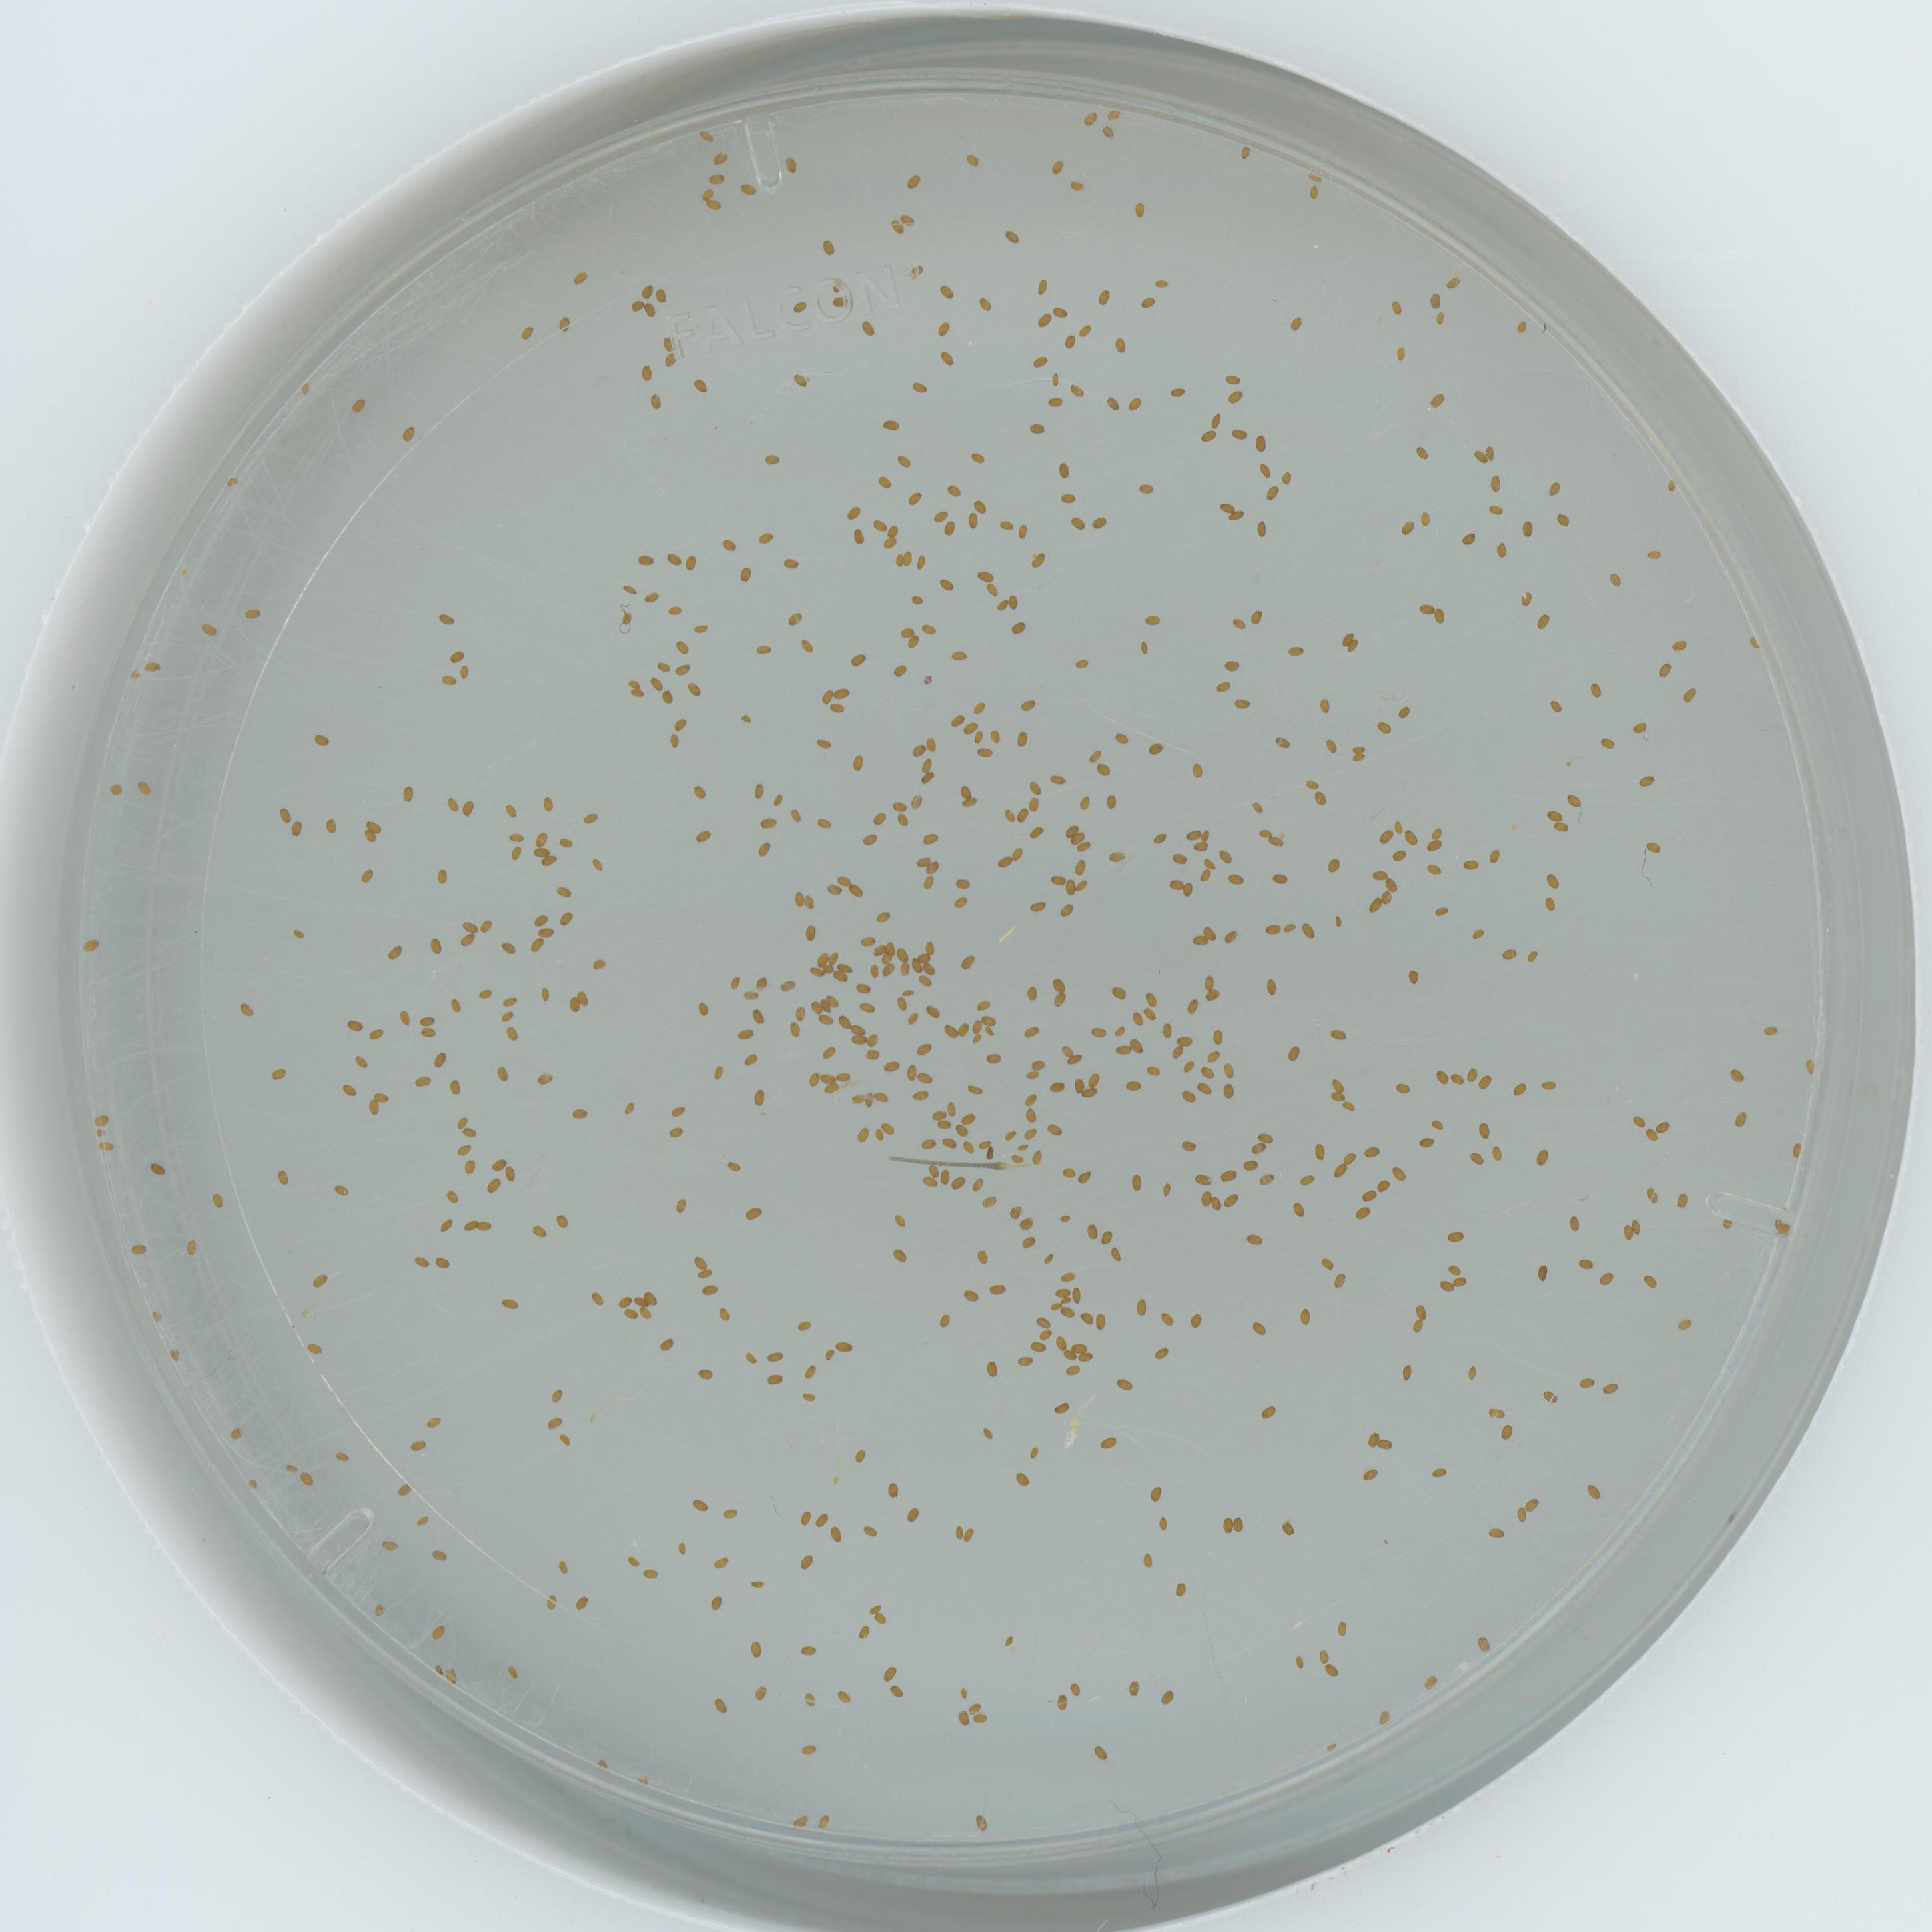seed: (1028, 421, 1049, 441), (1097, 1433, 1120, 1451), (1125, 1171, 1143, 1194), (1309, 1141, 1327, 1162), (1476, 1120, 1491, 1143), (915, 1037, 934, 1054), (747, 1640, 766, 1658), (855, 1125, 872, 1145), (1223, 370, 1242, 387), (957, 954, 977, 971), (1249, 1139, 1269, 1157), (1288, 1200, 1306, 1219), (1497, 1422, 1516, 1440), (1132, 1299, 1150, 1318), (1125, 1679, 1143, 1698), (908, 793, 925, 812), (791, 372, 810, 389), (672, 639, 690, 656), (846, 502, 863, 520), (801, 924, 819, 941), (426, 936, 444, 954), (892, 548, 909, 566), (892, 1246, 909, 1263), (883, 1665, 901, 1683), (345, 1016, 363, 1033), (750, 1007, 768, 1024), (793, 1003, 810, 1021), (828, 1525, 846, 1543), (800, 1552, 817, 1569), (750, 1088, 768, 1106), (536, 1070, 554, 1088), (1251, 433, 1269, 451), (1136, 479, 1154, 497), (1681, 686, 1698, 704), (1263, 485, 1281, 502), (1564, 793, 1582, 810), (1253, 520, 1270, 538), (1299, 922, 1316, 939), (1403, 830, 1421, 847), (1033, 278, 1051, 295), (1169, 849, 1187, 867), (1486, 474, 1504, 492), (1389, 1164, 1407, 1182), (1260, 1405, 1277, 1422), (1251, 1318, 1269, 1336), (1192, 1168, 1210, 1185), (1219, 1060, 1237, 1077), (1123, 1074, 1141, 1092), (1585, 1483, 1603, 1500), (1306, 168, 1323, 186), (832, 294, 849, 311), (908, 262, 925, 280), (901, 212, 918, 230), (106, 782, 124, 800), (759, 816, 778, 832), (274, 807, 294, 823), (957, 782, 973, 801), (849, 1021, 869, 1037), (941, 1021, 957, 1040), (807, 1069, 823, 1088), (1028, 552, 1047, 568), (1219, 1166, 1238, 1182), (1203, 1047, 1223, 1063), (1051, 1399, 1070, 1415), (1532, 1148, 1552, 1164), (1486, 1523, 1506, 1539), (1196, 1063, 1215, 1079), (1539, 1387, 1559, 1403), (200, 621, 219, 637), (242, 607, 262, 623), (711, 1062, 725, 1083), (448, 648, 465, 663), (533, 911, 550, 927), (764, 451, 782, 467), (432, 869, 449, 885), (722, 538, 740, 554), (945, 481, 961, 499), (557, 909, 575, 925), (862, 318, 878, 336), (782, 554, 800, 570), (851, 651, 869, 667), (920, 830, 938, 846), (639, 364, 656, 380), (639, 281, 655, 299), (849, 755, 867, 771), (925, 736, 941, 754), (872, 517, 890, 533), (909, 741, 925, 759), (695, 828, 711, 846), (948, 713, 966, 729), (437, 610, 455, 626), (860, 932, 878, 948), (791, 297, 809, 313), (686, 679, 704, 695), (883, 418, 901, 433), (941, 518, 957, 536), (863, 832, 881, 847), (895, 812, 913, 828), (851, 529, 869, 545), (313, 731, 329, 748), (499, 939, 517, 955), (755, 842, 773, 858), (364, 817, 382, 833), (674, 660, 692, 676), (904, 175, 922, 191), (518, 326, 536, 341), (892, 798, 909, 814), (628, 297, 646, 313), (821, 239, 839, 255), (536, 924, 554, 939), (786, 156, 801, 173), (925, 858, 941, 876), (143, 658, 161, 674), (814, 952, 832, 968), (531, 1223, 548, 1238), (502, 1293, 518, 1311), (858, 998, 876, 1014), (432, 1051, 448, 1069), (573, 1594, 591, 1610), (340, 1083, 357, 1099), (924, 1001, 941, 1017), (798, 1509, 816, 1525), (738, 1024, 755, 1040), (913, 1086, 931, 1102), (814, 1511, 832, 1527), (803, 1362, 821, 1378), (906, 1008, 922, 1026), (713, 1698, 731, 1714), (835, 1336, 853, 1352), (920, 1134, 938, 1150), (694, 1497, 711, 1513), (745, 1203, 763, 1219), (883, 1058, 901, 1074), (485, 1177, 502, 1192), (708, 1594, 725, 1610), (855, 980, 872, 996), (455, 1141, 472, 1157), (695, 1000, 711, 1017), (412, 1253, 430, 1269), (460, 1157, 478, 1173), (414, 1072, 432, 1088), (433, 1253, 451, 1269), (269, 1062, 287, 1077), (672, 1196, 690, 1212), (669, 1102, 686, 1118), (658, 1336, 676, 1352), (692, 1254, 709, 1270), (796, 1316, 814, 1332), (941, 1132, 957, 1150), (856, 1624, 874, 1640), (430, 1624, 448, 1640), (1028, 897, 1046, 913), (1008, 619, 1026, 635), (1391, 849, 1408, 865), (1371, 867, 1389, 883), (1230, 425, 1247, 441), (1286, 642, 1304, 658), (1518, 520, 1536, 536), (1426, 292, 1444, 308), (1545, 874, 1562, 890), (1656, 662, 1674, 678), (1398, 518, 1415, 534), (1230, 616, 1247, 632), (1033, 311, 1051, 327), (1023, 780, 1040, 796), (998, 515, 1014, 533), (1187, 764, 1205, 780), (1051, 304, 1069, 320), (1150, 832, 1168, 847), (1263, 920, 1281, 936), (1553, 511, 1571, 527), (1070, 860, 1088, 876), (1012, 731, 1030, 747), (1226, 389, 1244, 405), (1366, 897, 1384, 913), (1024, 796, 1042, 812), (1322, 738, 1339, 754), (1384, 878, 1401, 893), (1093, 761, 1111, 777), (1093, 288, 1111, 304), (1631, 720, 1649, 736), (1201, 925, 1219, 941), (1376, 828, 1394, 844), (1076, 322, 1093, 338), (1226, 872, 1244, 888), (1010, 846, 1028, 862), (1500, 945, 1518, 961), (1426, 839, 1444, 855), (1062, 823, 1079, 839), (1196, 869, 1214, 885), (1168, 384, 1185, 400), (962, 718, 978, 736), (1339, 630, 1355, 648), (1304, 184, 1322, 200), (1281, 920, 1299, 936), (1136, 639, 1152, 656), (1131, 200, 1146, 218), (1428, 391, 1445, 407), (1346, 637, 1364, 653), (1157, 1023, 1175, 1039), (1297, 1309, 1315, 1325), (1601, 1378, 1619, 1394), (1208, 1028, 1226, 1044), (1097, 1228, 1115, 1244), (1511, 1079, 1529, 1095), (1405, 970, 1421, 987), (1028, 1338, 1046, 1353), (1178, 1058, 1196, 1074), (1184, 998, 1201, 1014), (1642, 1272, 1660, 1288), (1732, 1109, 1750, 1125), (1399, 1362, 1415, 1380), (1138, 1552, 1155, 1568), (1196, 1189, 1212, 1207), (1246, 1230, 1263, 1246), (970, 1177, 987, 1192), (1109, 984, 1125, 1001), (1085, 1072, 1102, 1088), (1129, 1037, 1146, 1053), (1157, 1690, 1175, 1706), (1016, 1352, 1033, 1368), (1598, 1269, 1615, 1284), (1329, 1024, 1346, 1040), (1109, 1023, 1127, 1039), (1146, 1484, 1164, 1500), (989, 1279, 1007, 1295), (1058, 1162, 1076, 1178), (1196, 1079, 1214, 1095), (1223, 1192, 1240, 1208), (1175, 1031, 1192, 1047), (1141, 991, 1159, 1007), (1044, 1120, 1062, 1136), (1330, 1270, 1348, 1286), (1047, 1077, 1065, 1093), (1284, 1046, 1302, 1062), (1566, 1214, 1582, 1231), (1394, 1079, 1412, 1095), (1258, 1129, 1276, 1145), (1299, 1171, 1316, 1187), (1076, 1309, 1093, 1325), (1116, 1376, 1134, 1392), (1468, 1148, 1486, 1164), (1053, 1334, 1069, 1352), (1488, 1403, 1506, 1419), (1773, 1217, 1789, 1235), (1803, 1058, 1819, 1076), (1746, 635, 1762, 653), (1444, 274, 1461, 290), (1060, 904, 1077, 920), (1100, 124, 1116, 142), (816, 1813, 833, 1829), (752, 1684, 770, 1700), (966, 1698, 984, 1714), (849, 1088, 867, 1104), (798, 637, 816, 653), (662, 352, 679, 368), (663, 336, 681, 352), (832, 278, 849, 294), (697, 127, 715, 143), (633, 1773, 651, 1789), (593, 1757, 610, 1773), (502, 1663, 520, 1679), (444, 1668, 462, 1684), (380, 1536, 398, 1552), (648, 395, 663, 412), (556, 317, 573, 333), (134, 780, 150, 798), (299, 380, 317, 396), (531, 844, 550, 858), (906, 1063, 920, 1083), (1044, 395, 1063, 409), (1031, 1313, 1051, 1327), (1079, 1086, 1099, 1100), (1619, 1223, 1633, 1242), (1629, 1217, 1644, 1237), (1054, 1693, 1069, 1713), (1067, 384, 1086, 398), (778, 978, 798, 993), (741, 987, 761, 1001), (952, 878, 973, 890), (623, 580, 639, 596), (672, 717, 688, 732), (556, 885, 571, 901), (658, 690, 674, 706), (462, 918, 478, 934), (667, 550, 683, 566), (529, 936, 545, 952), (791, 892, 807, 908), (502, 803, 518, 819), (939, 285, 955, 301), (322, 817, 338, 833), (895, 451, 911, 467), (934, 508, 950, 524), (893, 662, 909, 678), (557, 835, 573, 851), (540, 796, 556, 812), (879, 474, 895, 490), (738, 566, 754, 582), (669, 603, 685, 619), (936, 320, 952, 336), (939, 349, 955, 364), (752, 784, 768, 800), (648, 676, 663, 692), (816, 816, 832, 832), (400, 786, 416, 801), (938, 575, 954, 591), (655, 287, 671, 303), (685, 554, 701, 570), (913, 554, 929, 570), (692, 377, 708, 393), (692, 784, 708, 800), (872, 810, 888, 826), (582, 810, 598, 826), (619, 610, 635, 626), (915, 853, 931, 869), (709, 168, 725, 184), (359, 869, 375, 885), (287, 821, 303, 837), (895, 947, 911, 962), (504, 1026, 520, 1042), (448, 998, 464, 1014), (867, 1031, 883, 1047), (754, 975, 770, 991), (368, 1024, 384, 1040), (554, 1212, 570, 1228), (886, 1481, 902, 1497), (444, 1187, 460, 1203), (548, 1414, 564, 1430), (853, 1447, 869, 1463), (715, 1553, 731, 1569), (589, 1290, 605, 1306), (554, 1559, 570, 1575), (617, 1293, 633, 1309), (837, 1014, 853, 1030), (936, 1311, 952, 1327), (874, 1088, 890, 1104), (801, 1642, 817, 1658), (495, 1067, 511, 1083), (439, 1215, 455, 1231), (918, 1067, 934, 1083), (702, 1281, 718, 1297), (890, 1684, 906, 1700), (939, 1169, 955, 1185), (787, 1021, 803, 1037), (548, 1387, 564, 1403), (823, 1042, 839, 1058), (478, 985, 494, 1001), (837, 1690, 853, 1706), (373, 1086, 389, 1102), (633, 1293, 649, 1309), (333, 1182, 349, 1198), (950, 1175, 966, 1191), (893, 1212, 909, 1228), (897, 962, 913, 978), (1049, 872, 1065, 888), (1325, 858, 1341, 874), (1589, 683, 1605, 699), (977, 566, 993, 582), (1200, 428, 1215, 444), (1672, 637, 1688, 653), (1417, 600, 1433, 616), (1233, 695, 1249, 711), (1028, 824, 1044, 840), (1274, 734, 1290, 750), (1316, 697, 1332, 713), (1113, 731, 1129, 747), (1546, 479, 1562, 495), (1376, 720, 1392, 736), (1536, 612, 1552, 628), (1019, 697, 1035, 713), (1256, 462, 1272, 478), (1426, 863, 1442, 879), (1460, 529, 1476, 545), (1014, 524, 1030, 540), (1277, 469, 1293, 485), (1463, 858, 1479, 874), (1139, 294, 1155, 310), (1102, 794, 1118, 810), (1470, 925, 1486, 941), (987, 727, 1003, 743), (970, 449, 985, 465), (1599, 734, 1615, 750), (1493, 541, 1509, 557), (1076, 794, 1092, 810), (1090, 513, 1106, 529), (1272, 872, 1288, 888), (1070, 179, 1086, 195), (1546, 807, 1562, 823), (1288, 317, 1304, 333), (1414, 444, 1430, 460), (1054, 462, 1070, 478), (1488, 849, 1504, 865), (1031, 352, 1047, 368), (1125, 395, 1141, 410), (1003, 226, 1019, 242), (1428, 824, 1444, 840), (1472, 448, 1488, 464), (1180, 883, 1196, 899), (1311, 791, 1327, 807), (996, 855, 1012, 870), (1513, 318, 1529, 334), (1200, 855, 1215, 870), (966, 513, 982, 529), (971, 699, 987, 715), (1086, 748, 1102, 764), (1249, 800, 1265, 816), (1185, 826, 1201, 842), (993, 596, 1008, 612), (1431, 310, 1447, 326), (1392, 345, 1408, 361), (975, 996, 991, 1012), (1127, 1010, 1143, 1026), (1007, 1203, 1023, 1219), (1279, 1522, 1295, 1537), (1447, 1261, 1463, 1277), (1320, 1254, 1336, 1270), (1231, 1516, 1247, 1532), (1113, 1040, 1129, 1056), (1014, 1470, 1030, 1486), (1490, 1146, 1506, 1162), (1580, 1373, 1596, 1389), (1631, 1111, 1647, 1127), (1376, 1437, 1392, 1453), (1023, 985, 1039, 1001), (1067, 1681, 1083, 1697), (1355, 1203, 1371, 1219), (1435, 1069, 1451, 1085), (1221, 1083, 1237, 1099), (1578, 1254, 1594, 1270), (985, 1047, 1001, 1063), (1017, 1215, 1033, 1231), (1023, 1023, 1039, 1039), (1730, 1065, 1746, 1081), (980, 1010, 996, 1026), (1159, 1311, 1175, 1327), (1447, 1226, 1463, 1242), (1656, 1116, 1672, 1132), (1422, 1674, 1438, 1690), (1023, 1090, 1039, 1106), (1332, 1162, 1348, 1178), (1419, 1132, 1435, 1148), (1058, 1269, 1074, 1284), (1376, 1177, 1392, 1192), (1414, 1304, 1430, 1320), (1438, 1277, 1454, 1293), (1152, 1514, 1168, 1530), (1152, 1345, 1168, 1361), (1090, 1021, 1106, 1037), (1477, 1074, 1493, 1090), (1525, 1495, 1541, 1511), (985, 1361, 1001, 1376), (1145, 1062, 1161, 1077), (1674, 1192, 1690, 1208), (1536, 1265, 1552, 1281), (1024, 1444, 1040, 1460), (1019, 1233, 1035, 1249), (975, 1249, 991, 1265), (1076, 1168, 1092, 1184), (1203, 987, 1219, 1003), (1171, 1582, 1187, 1598), (1362, 1465, 1378, 1481), (1187, 1313, 1203, 1329), (1092, 1746, 1108, 1762), (1329, 1077, 1345, 1093), (1376, 1709, 1392, 1725), (1180, 1136, 1196, 1152), (1083, 1223, 1099, 1238), (1093, 1313, 1109, 1329), (1677, 1315, 1693, 1330), (980, 1194, 996, 1210), (962, 1288, 978, 1304), (1644, 1187, 1660, 1203), (1463, 1067, 1479, 1083), (1764, 1021, 1780, 1037), (980, 1424, 996, 1440), (1789, 1143, 1805, 1159), (1258, 1171, 1274, 1187), (1109, 847, 1125, 863), (1106, 396, 1122, 412), (1237, 145, 1253, 161), (1083, 111, 1099, 127), (1104, 106, 1120, 122), (973, 1815, 989, 1831), (793, 1813, 809, 1829), (803, 1691, 819, 1707), (955, 1711, 971, 1727), (957, 1686, 973, 1702), (971, 1713, 987, 1729), (740, 711, 755, 727), (890, 218, 906, 234), (543, 1594, 559, 1610), (396, 1481, 412, 1497), (591, 955, 607, 971), (400, 426, 416, 442), (350, 398, 366, 414), (230, 1426, 246, 1442), (149, 1307, 165, 1323), (308, 1341, 324, 1357), (274, 1169, 290, 1185), (97, 1139, 113, 1155), (94, 1111, 110, 1127), (92, 1125, 108, 1141), (292, 927, 308, 943), (225, 474, 241, 490), (876, 909, 893, 924), (533, 832, 550, 846), (847, 885, 865, 899), (644, 591, 662, 605), (816, 736, 833, 750), (787, 809, 805, 823), (755, 642, 773, 656), (828, 701, 846, 715), (442, 798, 460, 812), (711, 150, 729, 165), (741, 180, 759, 195), (901, 548, 915, 566), (865, 1046, 883, 1060), (768, 1371, 786, 1385), (418, 1012, 435, 1026), (419, 1024, 437, 1039), (817, 1012, 835, 1026), (488, 1155, 506, 1169), (667, 1123, 685, 1138), (352, 1054, 370, 1069), (863, 1523, 881, 1537), (501, 994, 518, 1008), (801, 1743, 819, 1757), (697, 1366, 715, 1380), (849, 1033, 867, 1047), (881, 962, 899, 977), (695, 1267, 713, 1281), (725, 1157, 743, 1171), (1217, 499, 1235, 513), (1060, 490, 1077, 504), (1638, 773, 1656, 787), (1223, 658, 1240, 672), (1143, 612, 1161, 626), (1014, 809, 1031, 823), (1067, 515, 1085, 529), (1049, 771, 1067, 786), (1062, 333, 1076, 350), (1191, 840, 1208, 855), (982, 582, 1000, 596), (1394, 704, 1412, 718), (1228, 508, 1246, 522), (966, 150, 980, 168), (1049, 159, 1063, 177), (1191, 932, 1208, 947), (1332, 1621, 1350, 1635), (1000, 1125, 1017, 1139), (1362, 1143, 1380, 1157), (1366, 1430, 1380, 1447), (1361, 1187, 1378, 1201), (1070, 1339, 1088, 1353), (1051, 993, 1069, 1007), (1463, 1366, 1481, 1380), (1178, 1088, 1196, 1102), (1069, 1286, 1083, 1304), (1208, 1194, 1223, 1212), (1008, 1150, 1026, 1164), (975, 1136, 993, 1150), (962, 1138, 977, 1155), (1221, 931, 1238, 945), (432, 1548, 449, 1562), (83, 938, 101, 952), (952, 895, 971, 908), (899, 623, 915, 637), (639, 552, 655, 566), (478, 918, 494, 932), (911, 380, 927, 395), (692, 621, 708, 635), (508, 830, 524, 844), (920, 876, 936, 890), (920, 621, 936, 635), (460, 801, 476, 816), (918, 759, 934, 773), (699, 186, 715, 200), (837, 872, 853, 886), (363, 832, 379, 846), (589, 858, 605, 872), (644, 303, 658, 318), (906, 490, 922, 504), (906, 635, 922, 649), (759, 531, 775, 545), (835, 685, 851, 699), (667, 734, 683, 748), (456, 663, 471, 679), (508, 847, 524, 862), (886, 524, 902, 538), (656, 658, 672, 672), (771, 793, 787, 807), (441, 672, 456, 686), (708, 196, 722, 212), (881, 536, 897, 550), (460, 932, 476, 947), (870, 943, 886, 957), (387, 947, 403, 961), (922, 939, 936, 955), (828, 950, 844, 964), (446, 1079, 462, 1093), (743, 1350, 759, 1364), (722, 1506, 738, 1520), (499, 1008, 515, 1023), (904, 1507, 920, 1522), (571, 1106, 587, 1120), (947, 1100, 961, 1116), (839, 1067, 855, 1081), (768, 1348, 784, 1362), (623, 1306, 639, 1320), (502, 1166, 518, 1180), (717, 1306, 732, 1320), (398, 1008, 412, 1024), (727, 975, 743, 989), (823, 1069, 837, 1085), (460, 1125, 476, 1139), (895, 996, 911, 1010), (462, 1217, 478, 1231), (743, 1053, 759, 1067), (538, 987, 552, 1003), (639, 1306, 655, 1320), (642, 1564, 658, 1578), (922, 1175, 938, 1189), (881, 1120, 895, 1136), (950, 1525, 966, 1539), (901, 984, 916, 998), (867, 1599, 883, 1614), (674, 1541, 690, 1555), (626, 1553, 642, 1568), (801, 1389, 817, 1403), (476, 1217, 492, 1231), (925, 1162, 939, 1178), (872, 1127, 888, 1141), (936, 1116, 952, 1131), (366, 1100, 382, 1115), (821, 1346, 837, 1361), (209, 1192, 225, 1207), (453, 1115, 469, 1129), (149, 1161, 165, 1175), (824, 1081, 840, 1095), (955, 1021, 970, 1037), (239, 1001, 253, 1017), (129, 1240, 145, 1254), (1417, 511, 1433, 525), (1608, 571, 1624, 586), (1543, 897, 1559, 911), (1111, 338, 1127, 352), (1433, 904, 1449, 918), (1548, 699, 1564, 713), (977, 745, 993, 759), (1166, 878, 1182, 892), (1525, 948, 1541, 962), (970, 731, 985, 745), (1387, 301, 1403, 315), (1217, 849, 1233, 863), (1247, 609, 1263, 623), (973, 499, 989, 513), (1433, 609, 1449, 623), (1304, 777, 1320, 791), (1214, 679, 1230, 694), (1488, 502, 1504, 517), (1553, 821, 1569, 835), (1146, 741, 1162, 755), (1074, 840, 1090, 855), (1152, 274, 1168, 288), (1208, 412, 1224, 426), (1074, 879, 1090, 893), (977, 295, 993, 310), (1007, 594, 1021, 610), (1378, 892, 1394, 906), (1000, 809, 1016, 823), (1389, 821, 1405, 835), (1072, 656, 1088, 671), (1200, 828, 1214, 844), (1645, 547, 1661, 561), (1256, 826, 1272, 840), (1070, 832, 1086, 846), (1263, 980, 1279, 994), (1023, 1108, 1039, 1122), (1541, 1076, 1557, 1090), (1201, 975, 1215, 991), (1141, 1007, 1157, 1021), (1049, 977, 1065, 991), (1428, 1116, 1444, 1131), (1431, 1465, 1447, 1479), (1315, 1649, 1330, 1663), (1168, 1044, 1184, 1058), (1322, 1665, 1338, 1679), (1021, 1125, 1037, 1139), (1410, 1320, 1426, 1334), (1054, 1210, 1070, 1224), (1063, 1362, 1079, 1376), (1476, 1637, 1491, 1651), (1106, 1246, 1122, 1260), (1058, 1042, 1074, 1056), (1644, 1127, 1660, 1141), (1292, 1654, 1306, 1670), (1343, 1148, 1359, 1162), (1219, 1516, 1233, 1532), (1039, 1251, 1054, 1265), (968, 1081, 984, 1095), (1058, 1306, 1074, 1320), (1242, 1157, 1258, 1171), (1157, 1182, 1173, 1196), (1341, 1099, 1357, 1113), (1449, 1070, 1465, 1085), (1028, 1150, 1044, 1164), (1513, 1507, 1529, 1522), (970, 1031, 985, 1046), (837, 961, 853, 975), (863, 1092, 878, 1108), (817, 998, 832, 1014), (826, 883, 842, 897), (787, 612, 803, 626), (334, 1449, 350, 1463), (410, 1438, 426, 1453), (426, 1414, 441, 1430), (571, 271, 587, 285), (299, 1472, 315, 1486), (283, 1463, 299, 1477), (246, 1476, 260, 1491), (184, 1240, 200, 1254), (313, 1274, 327, 1290), (950, 649, 968, 662), (541, 856, 559, 869), (867, 962, 879, 980), (1350, 743, 1368, 755), (1065, 1053, 1083, 1065), (1077, 1350, 1095, 1362), (1046, 1300, 1063, 1313), (1035, 1329, 1053, 1341), (1030, 1058, 1047, 1070), (1074, 1076, 1085, 1095), (750, 1578, 770, 1589), (909, 593, 924, 607), (821, 690, 835, 704), (803, 895, 817, 909), (885, 939, 899, 954), (566, 998, 580, 1012), (826, 994, 840, 1008), (577, 991, 591, 1005), (557, 1431, 571, 1445), (623, 1099, 637, 1113), (1647, 840, 1661, 855), (1520, 591, 1534, 605), (1721, 1215, 1736, 1230), (1000, 1633, 1014, 1647), (909, 957, 924, 971), (1332, 915, 1346, 929), (416, 1514, 430, 1529), (168, 1346, 182, 1361), (626, 676, 642, 688), (931, 1104, 947, 1116), (916, 975, 932, 987), (874, 1614, 890, 1626), (955, 1120, 968, 1136), (646, 1288, 658, 1304), (1063, 879, 1076, 895), (1484, 446, 1497, 462), (1047, 372, 1060, 387), (1453, 1274, 1468, 1286), (1054, 1284, 1070, 1297), (1330, 1090, 1346, 1102), (1060, 1348, 1076, 1361), (433, 1663, 446, 1679), (628, 688, 646, 699), (809, 966, 826, 977), (1267, 837, 1284, 847), (1023, 1069, 1040, 1079), (961, 796, 978, 807), (920, 773, 934, 786), (810, 1000, 823, 1014), (922, 962, 936, 975), (1665, 479, 1677, 494), (1014, 1141, 1028, 1154), (823, 962, 837, 975), (1325, 1741, 1339, 1753), (375, 1603, 387, 1617), (879, 952, 895, 962), (833, 971, 849, 982), (1350, 754, 1366, 764), (966, 1527, 977, 1543), (984, 1026, 996, 1039), (966, 1109, 977, 1123), (985, 1145, 996, 1159), (1058, 1297, 1074, 1306), (971, 1021, 982, 1033), (918, 955, 932, 964)
